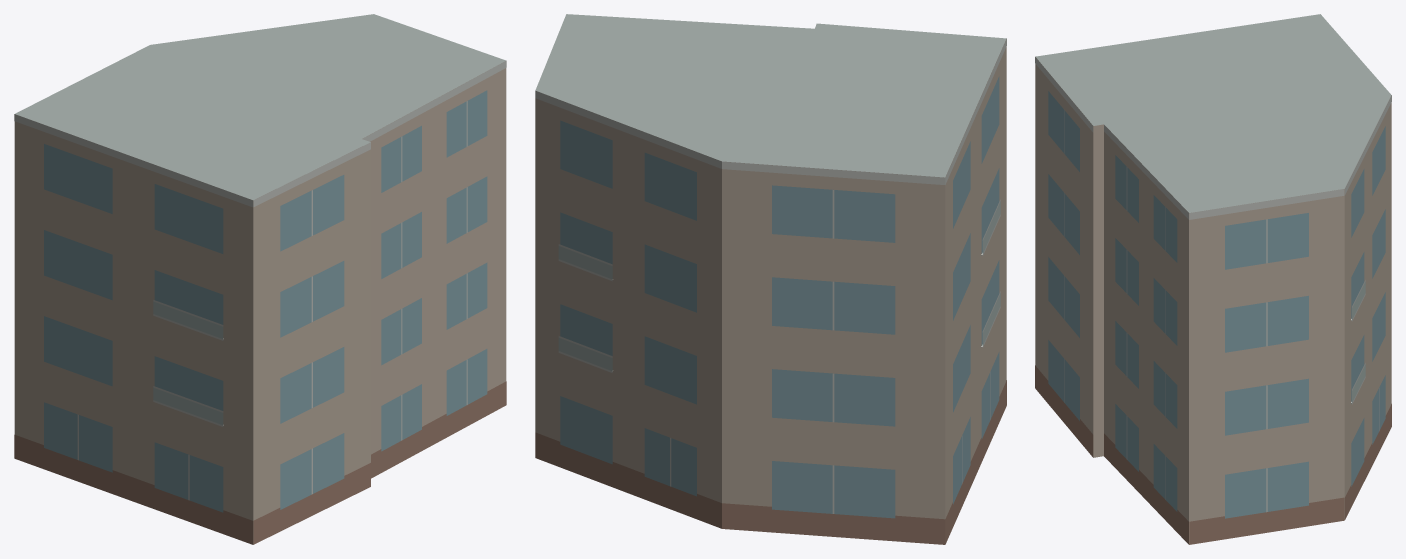
Rendered from survey-upis-32849944.glb.
3 renders of one model, left to right at view 1: azimuth 30°, elevation 25°; view 2: azimuth 150°, elevation 25°; view 3: azimuth 270°, elevation 25°, orthographic. The views are drawn at different scales.
Parts seen in each view (by area): view 1: survey-upis-32849944.tmp; view 2: survey-upis-32849944.tmp; view 3: survey-upis-32849944.tmp.
Part boxes in pixels (left/top/right/bottom): survey-upis-32849944.tmp: left=14, top=14, right=506, bottom=544; survey-upis-32849944.tmp: left=535, top=14, right=1006, bottom=544; survey-upis-32849944.tmp: left=1035, top=14, right=1391, bottom=544.
Size of the model in its own units: 15.07 by 11.7 by 11.4.
